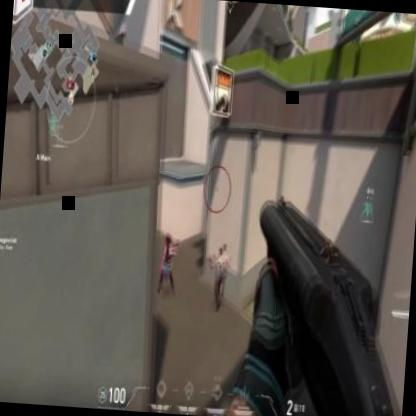enemy: (206, 241, 231, 312), (157, 233, 183, 300)
enemy_head: (164, 236, 172, 245), (218, 248, 224, 258)
